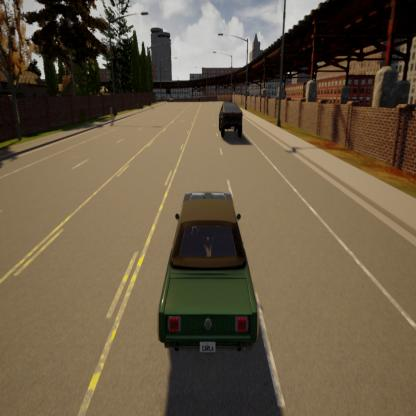Cars: (152, 171, 264, 367), (216, 98, 247, 144)
